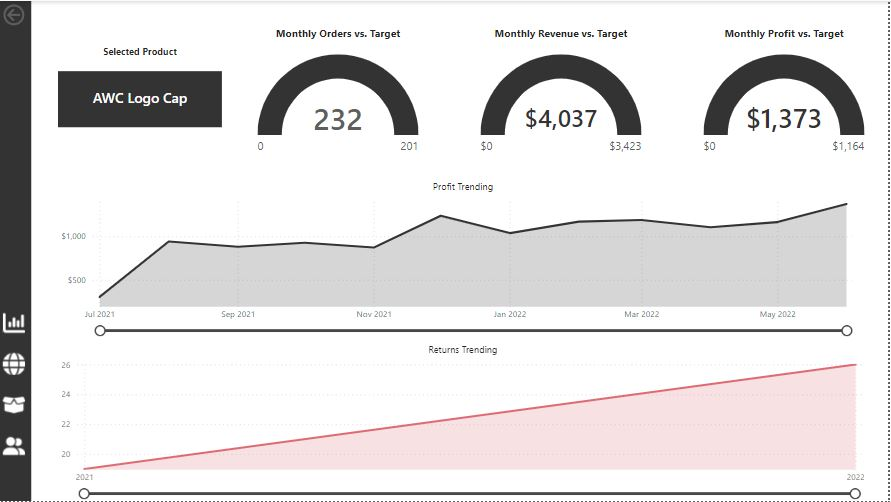

The dashboard page shown, as its layout file describes it:
{"tool":"powerbi","page":{"name":"Product Detail","canvas":[1280,720],"ordinal":2},"visuals":[{"type":"shape","box":[0,0,45,720],"z":0},{"type":"gauge","title":"Monthly Orders vs. Target","fields":{"Y":["Measure Table.Total Orders"],"MaxValue":["Measure Table.Previous Month Orders"]},"box":[365.8,36,241.9,208.8],"z":1000},{"type":"gauge","title":"Monthly Profit vs. Target","fields":{"Y":["Measure Table.Total Profit"],"MaxValue":["Measure Table.Previous Month Profit"]},"box":[1008,36,241.9,208.8],"z":2000},{"type":"gauge","title":"Monthly Revenue vs. Target","fields":{"Y":["Measure Table.Total Revenue"],"MaxValue":["Measure Table.Previous Month Revenue"]},"box":[686.9,36,241.9,208.8],"z":3000},{"type":"areaChart","title":"Profit Trending","fields":{"Y":["Measure Table.Total Profit"],"Category":["Calendar Lookup.Year","Calendar Lookup.Start of Month","Calendar Lookup.Start of Week","Calendar Lookup.Date"]},"box":[83.5,257.8,1166.4,227.5],"z":4000},{"type":"areaChart","title":"Returns Trending","fields":{"Y":["Measure Table.Total Returns"],"Category":["Calendar Lookup.Year","Calendar Lookup.Start of Month","Calendar Lookup.Start of Week","Calendar Lookup.Date"]},"box":[83.5,492.5,1166.4,227.5],"z":5000},{"type":"card","fields":{"Values":["Min(Product Lookup.ProductName)"]},"box":[83.5,100.8,236.2,80.6],"z":6000},{"type":"actionButton","box":[0,0,100,40],"z":7000},{"type":"textbox","box":[83.5,59,236.2,41.8],"z":8000},{"type":"actionButton","box":[0,443.5,44.6,40.3],"z":8001},{"type":"actionButton","box":[0,502.6,44.6,40.3],"z":8002},{"type":"actionButton","box":[0,561.6,44.6,40.3],"z":8003},{"type":"actionButton","box":[0,620.6,44.6,40.3],"z":8004}]}

Visuals, with their boxes on the page's 1280x720 design canvas (x1, y1, x2, y2). These are canvas units, not pixel positions in the 891x502 screenshot, which may show the page scaled, cropped or inside an application window:
shape: select_region(0, 0, 45, 720)
"Monthly Orders vs. Target" gauge: select_region(366, 36, 608, 245)
"Monthly Profit vs. Target" gauge: select_region(1008, 36, 1250, 245)
"Monthly Revenue vs. Target" gauge: select_region(687, 36, 929, 245)
"Profit Trending" areaChart: select_region(84, 258, 1250, 485)
"Returns Trending" areaChart: select_region(84, 492, 1250, 720)
card - Min(Product Lookup.ProductName): select_region(84, 101, 320, 181)
actionButton: select_region(0, 0, 100, 40)
textbox: select_region(84, 59, 320, 101)
actionButton: select_region(0, 444, 45, 484)
actionButton: select_region(0, 503, 45, 543)
actionButton: select_region(0, 562, 45, 602)
actionButton: select_region(0, 621, 45, 661)
